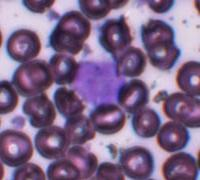M: (72, 58, 125, 106)
